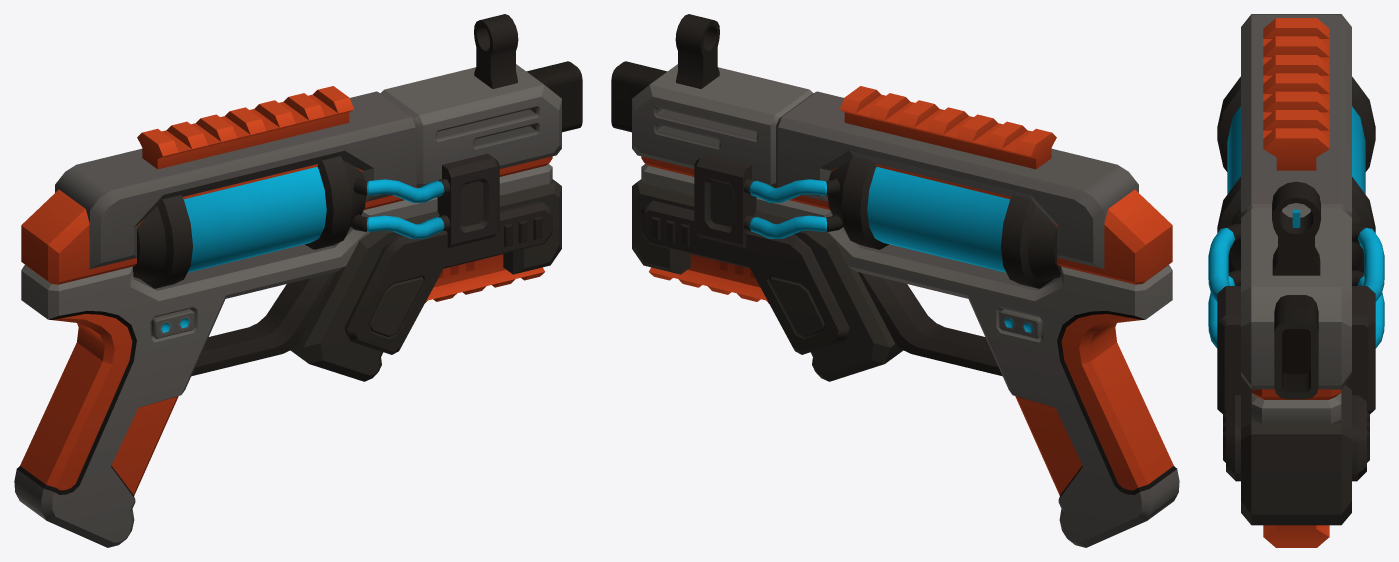
The model's file is SMG1_Base.fbx.
3 renders of one model, left to right at view 1: azimuth 30°, elevation 25°; view 2: azimuth 150°, elevation 25°; view 3: azimuth 270°, elevation 25°, orthographic. The views are drawn at different scales.
Visible parts, largest first — view 1: SMG1_Base; view 2: SMG1_Base; view 3: SMG1_Base.
Boxes of the visible parts, left/top/right/bottom form: SMG1_Base: left=14, top=14, right=582, bottom=547; SMG1_Base: left=611, top=14, right=1179, bottom=547; SMG1_Base: left=1208, top=14, right=1384, bottom=547.
Bounding box in the file's own units: 31.88 × 23.52 × 6.92.
